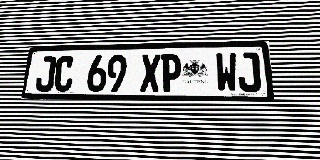6: (86, 55, 108, 92)
9: (106, 55, 127, 92)
C: (53, 56, 75, 92)
J: (237, 52, 262, 92), (35, 56, 57, 92)
P: (161, 54, 181, 92)
W: (215, 53, 238, 92)
X: (140, 54, 161, 92)
